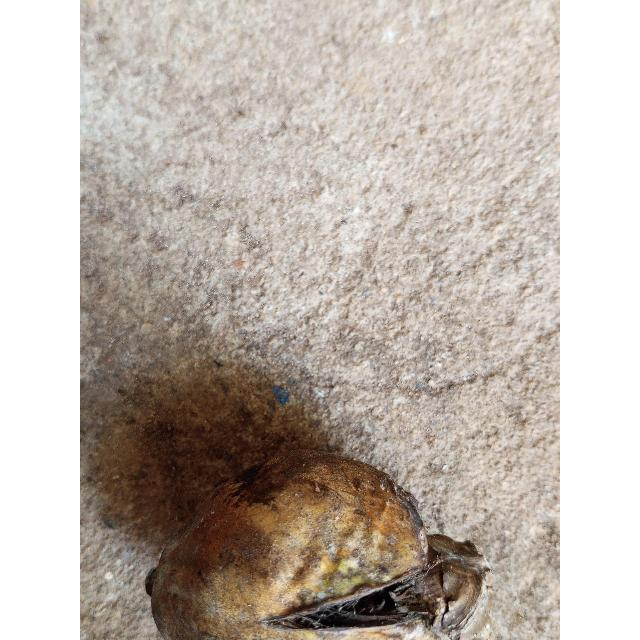damaged: (145, 444, 486, 640)
